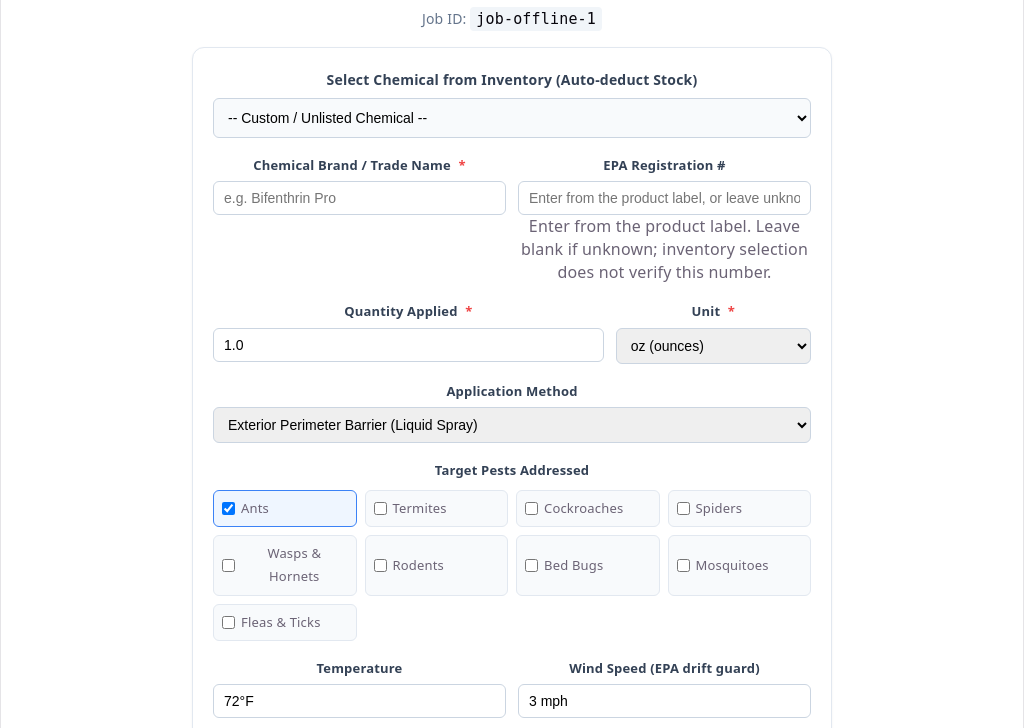
Test case: ChemicalLog Component › falls back to offline queue when submission fails or backend is unreachable
The image size is (1024, 728).
Step 1. Type "Bifenthrin 7.9%" into the field labelled "Chemical Brand / Trade Name *" → (360, 198), box [213,181,506,215]
(page scrolled)
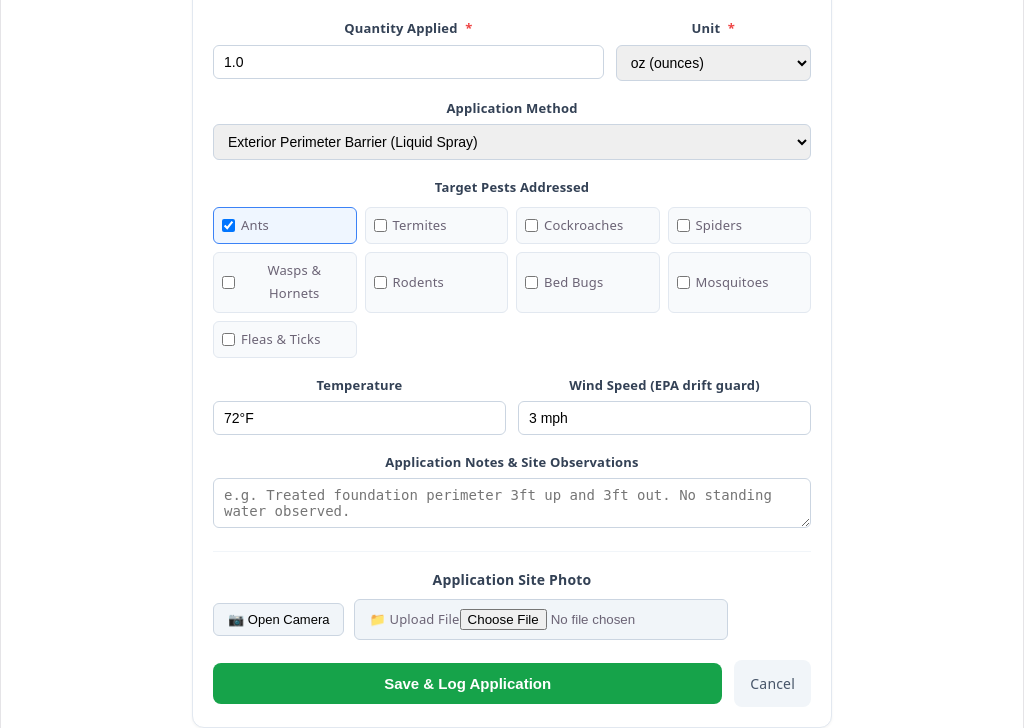
Step 2. Click the button "Save & Log Application" → (468, 684), box [213,663,722,704]
(page scrolled)
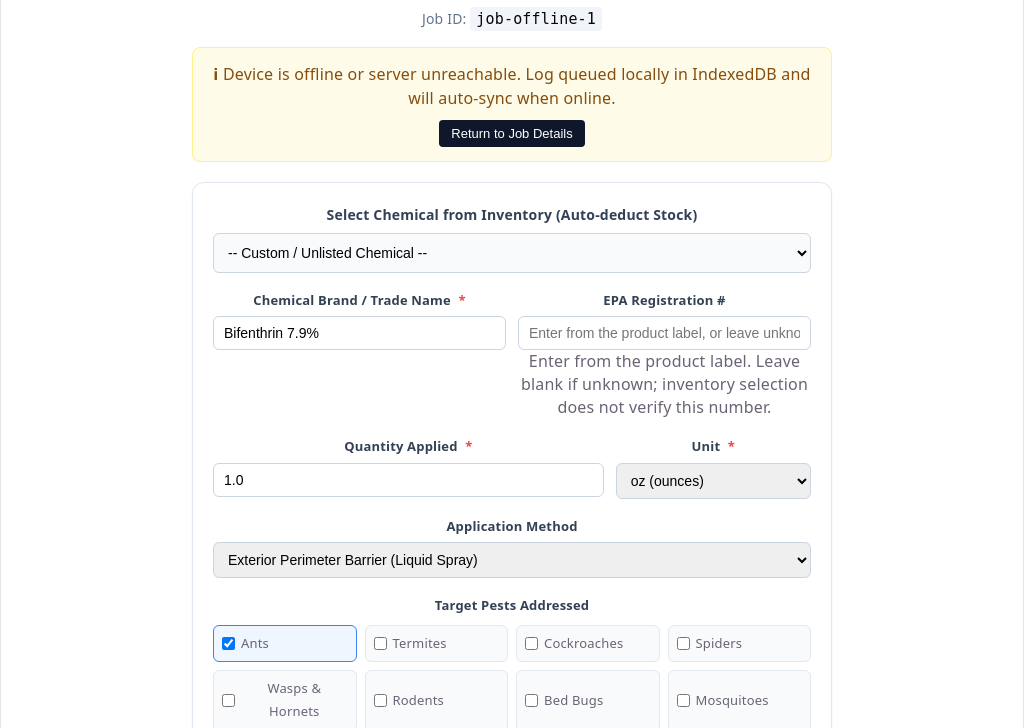
Check: the message shows "Device is offline or server unreachable. Log queued locally", box [223,64,810,110]
